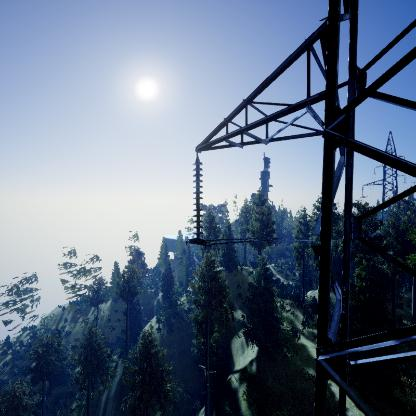insulator: (191, 158, 205, 238)
